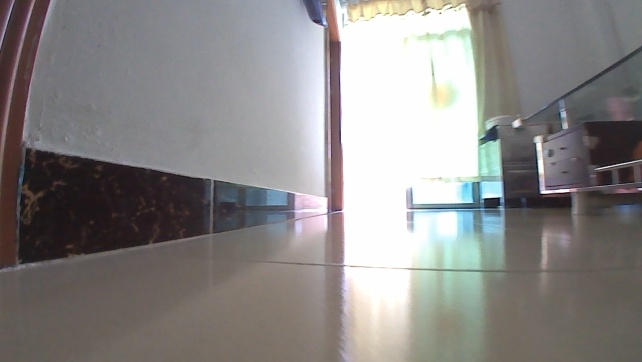tea_table1: (507, 41, 641, 214)
